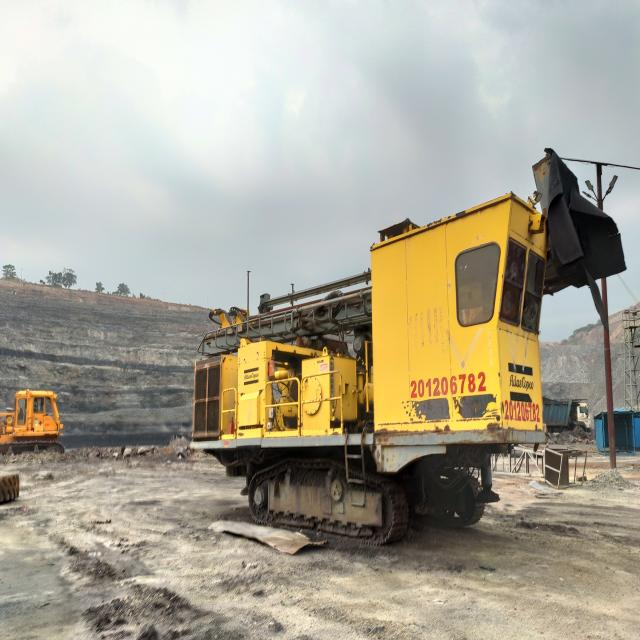buldozerpayloadergrader: (0, 390, 62, 449)
